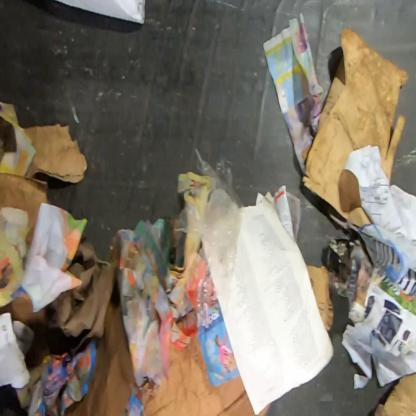cardboard: (301, 25, 410, 230), (137, 333, 271, 416), (63, 298, 137, 415), (48, 240, 116, 357), (23, 122, 88, 184), (0, 172, 50, 249), (10, 293, 53, 371), (363, 371, 415, 415), (305, 263, 334, 332)
soft_plastic: (172, 146, 244, 328), (196, 301, 240, 386)
